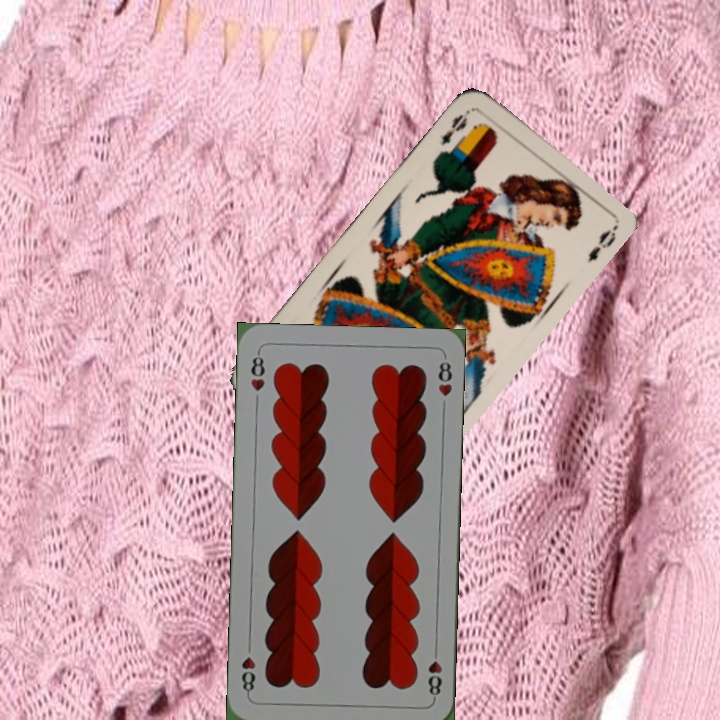EO: (436, 110, 471, 149)
H8: (424, 643, 444, 702), (247, 348, 268, 394)
